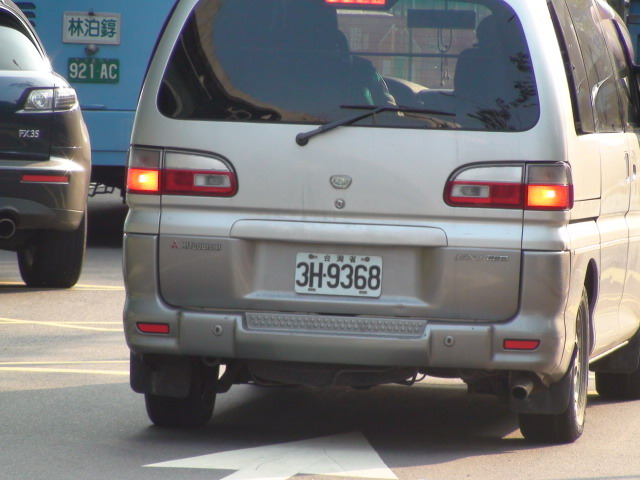plate: (293, 249, 383, 302), (64, 55, 123, 84)
